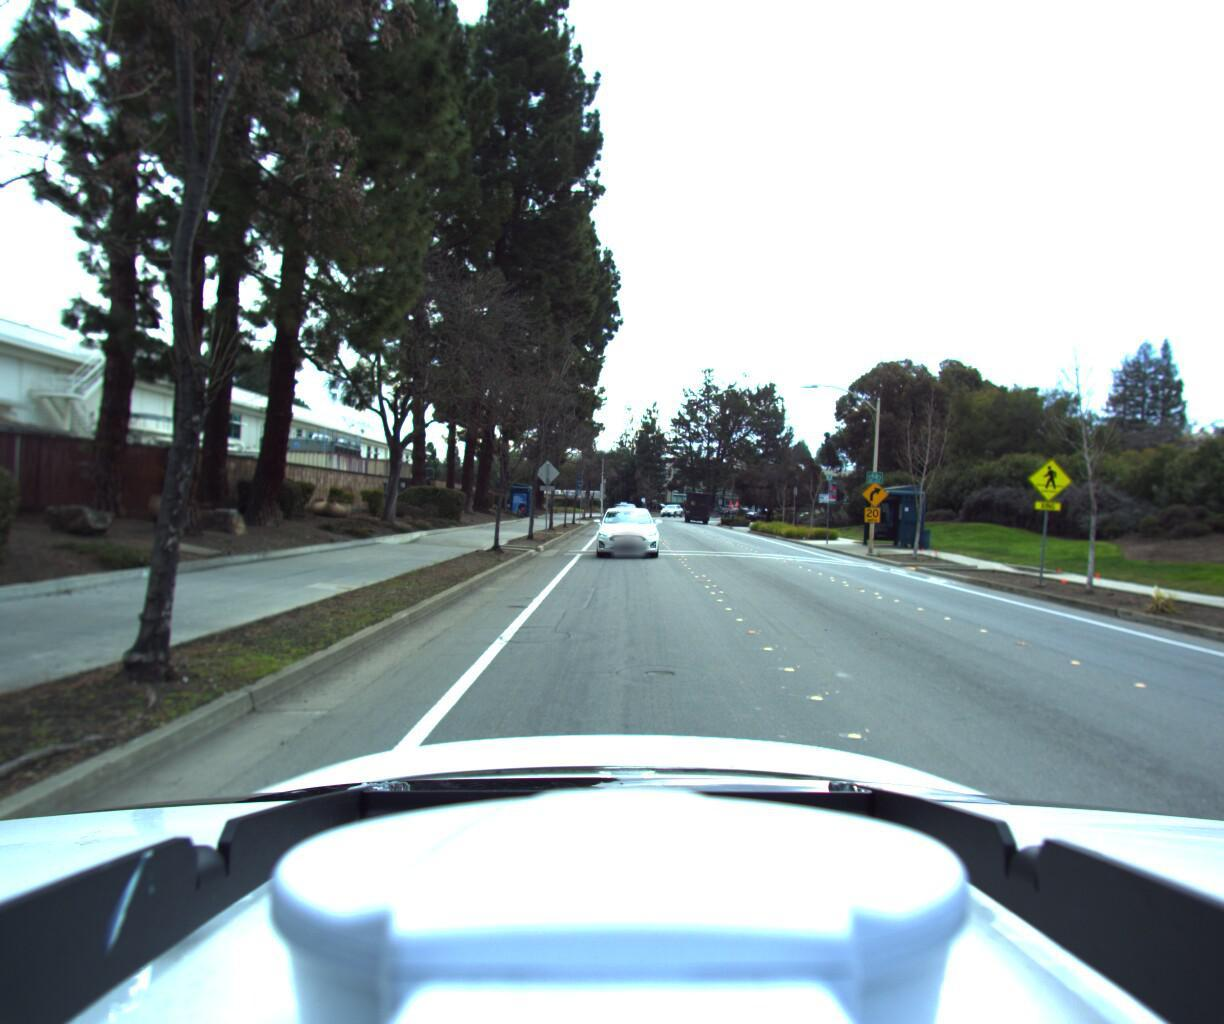car: (592, 501, 660, 557)
truck: (685, 487, 714, 522)
